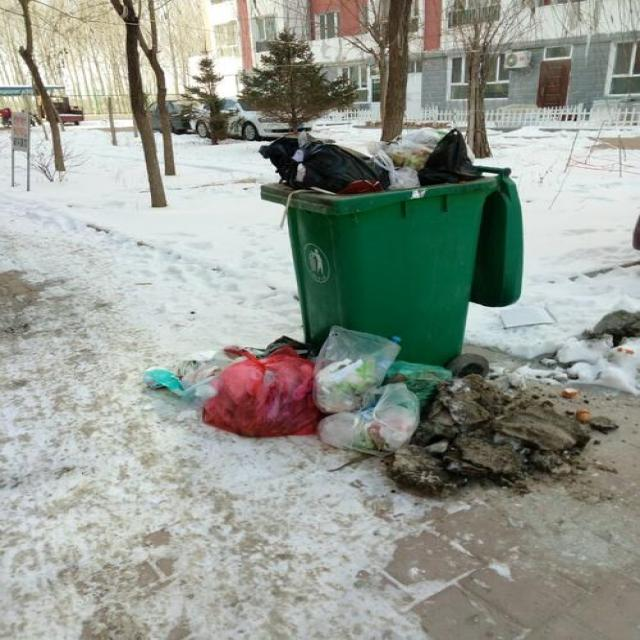garbage: (142, 325, 617, 496)
overflow: (256, 126, 521, 364)
